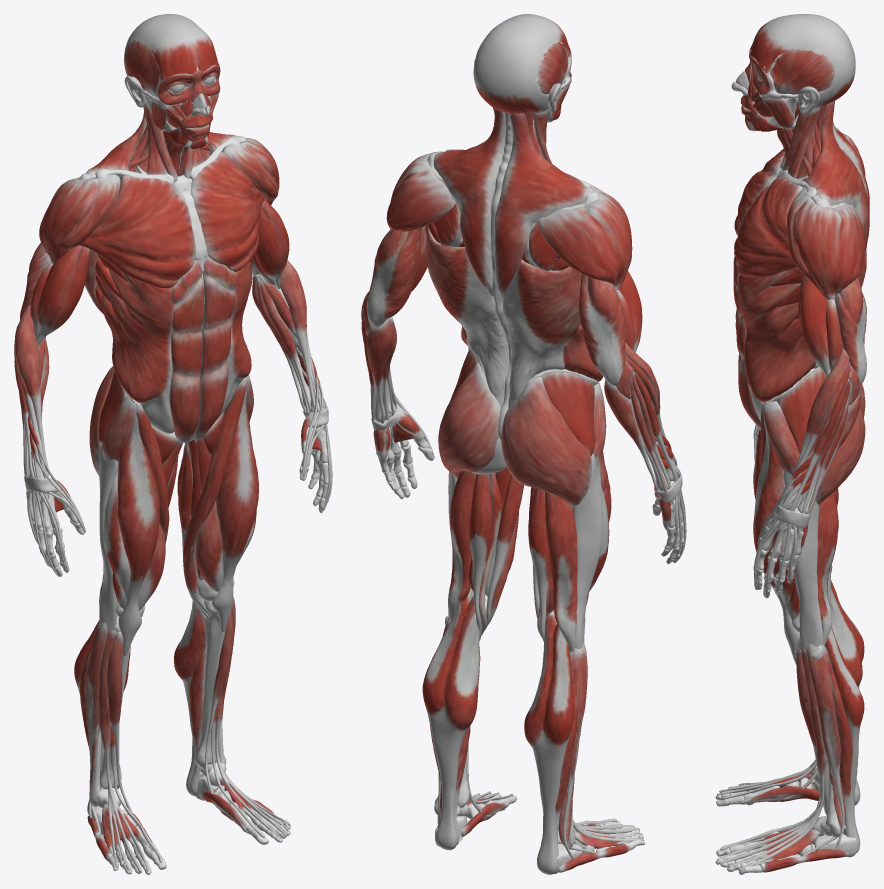
File: candidate-fullbody-ecorche-phase23c-decimate90-ccby-meshopt.glb
3 renders of one model, left to right at view 1: azimuth 30°, elevation 25°; view 2: azimuth 150°, elevation 25°; view 3: azimuth 270°, elevation 25°, orthographic. The views are drawn at different scales.
Parts seen in each view (by area): view 1: Object_23, Object_17, Object_29, Object_25, Object_31, Object_15, Object_33, Object_5, Object_7, Object_11, Object_27, Object_3 (+3 smaller); view 2: Object_13, Object_7, Object_3, Object_9, Object_5, Object_33, Object_15, Object_31, Object_29, Object_11, Object_25, Object_27 (+4 smaller); view 3: Object_23, Object_25, Object_15, Object_29, Object_31, Object_5, Object_7, Object_3, Object_33, Object_13, Object_11, Object_17 (+3 smaller).
Boxes of the visible parts, x1,y1,x2,y2 form: Object_23: [78, 152, 264, 442]; Object_17: [103, 377, 258, 656]; Object_29: [26, 41, 328, 874]; Object_25: [86, 595, 290, 872]; Object_31: [14, 260, 332, 576]; Object_15: [124, 14, 220, 148]; Object_33: [20, 199, 289, 344]; Object_5: [39, 137, 279, 263]; Object_7: [74, 572, 206, 814]; Object_11: [24, 76, 328, 631]; Object_27: [151, 410, 224, 615]; Object_3: [89, 366, 253, 476]; Object_13: [425, 109, 590, 407]; Object_7: [422, 595, 578, 874]; Object_3: [438, 349, 606, 507]; Object_9: [448, 471, 577, 651]; Object_5: [386, 151, 632, 289]; Object_33: [367, 226, 642, 385]; Object_15: [473, 14, 571, 122]; Object_31: [361, 291, 686, 562]; Object_29: [373, 41, 684, 873]; Object_11: [371, 83, 682, 649]; Object_25: [437, 617, 643, 872]; Object_27: [485, 467, 539, 629]; Object_23: [733, 148, 816, 430]; Object_25: [717, 643, 849, 872]; Object_15: [740, 14, 855, 131]; Object_29: [715, 49, 857, 874]; Object_31: [753, 347, 861, 597]; Object_5: [787, 127, 865, 299]; Object_7: [824, 580, 864, 852]; Object_3: [763, 368, 865, 504]; Object_33: [798, 250, 866, 385]; Object_13: [770, 101, 869, 368]; Object_11: [731, 71, 846, 650]; Object_17: [753, 402, 799, 665].
Size of the model in its own units: 26.15 by 68.16 by 11.71.
16 materials, 14 textured.
